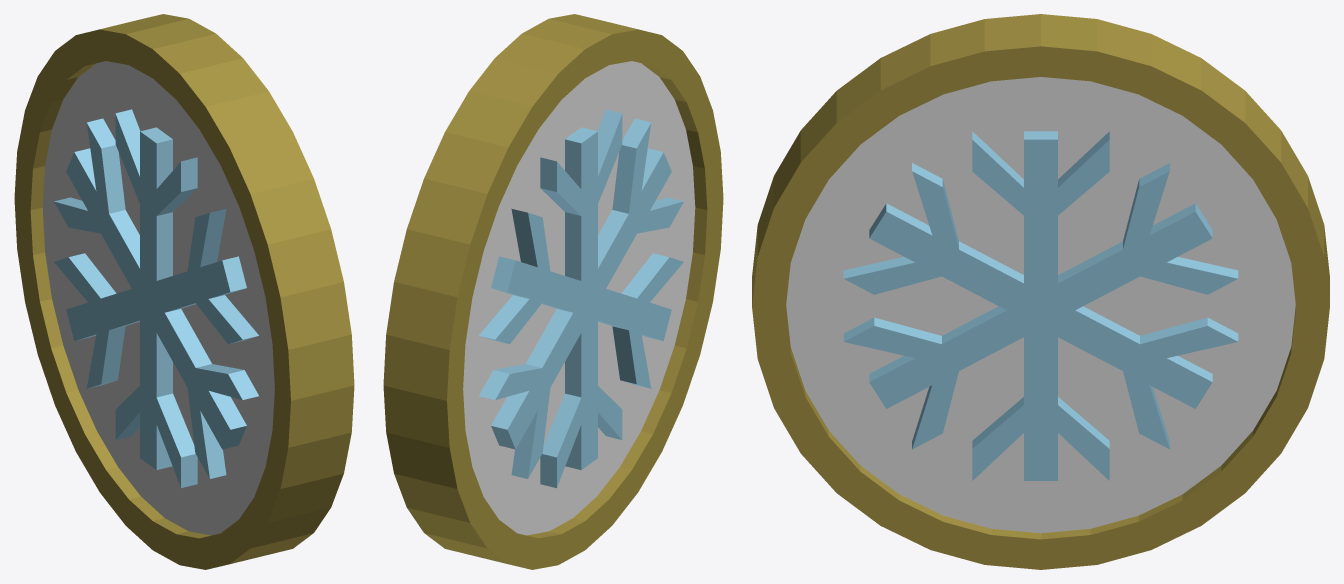
The model's file is ice.fbx.
3 renders of one model, left to right at view 1: azimuth 30°, elevation 25°; view 2: azimuth 150°, elevation 25°; view 3: azimuth 270°, elevation 25°, orthographic. The views are drawn at different scales.
Parts seen in each view (by area): view 1: Freeze; view 2: Freeze; view 3: Freeze.
Part boxes in pixels (x1,y1,x2,y2): Freeze: (14, 14, 354, 569); Freeze: (383, 14, 723, 569); Freeze: (752, 14, 1329, 569).
Bounding box in the file's own units: 30.18 × 200 × 200.
